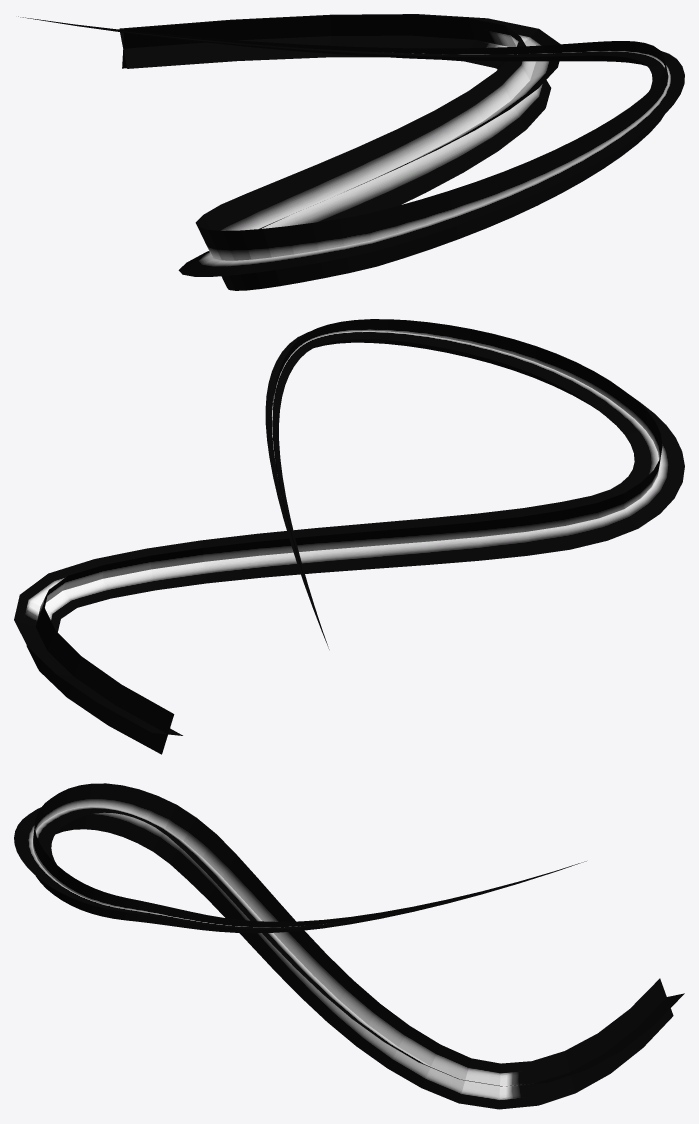
The model's file is TypeZero8.fbx.
The picture shows the model from 3 angles, top to bottom: view 1: azimuth 30°, elevation 25°; view 2: azimuth 150°, elevation 25°; view 3: azimuth 270°, elevation 25°; orthographic projection. The views are drawn at different scales.
Parts seen in each view (by area): view 1: SM_WEP_Eff_D61NJ1_A_08.mo; view 2: SM_WEP_Eff_D61NJ1_A_08.mo; view 3: SM_WEP_Eff_D61NJ1_A_08.mo.
Boxes of the visible parts, x1=… form: SM_WEP_Eff_D61NJ1_A_08.mo: x1=18, y1=14, x2=684, y2=290; SM_WEP_Eff_D61NJ1_A_08.mo: x1=14, y1=319, x2=684, y2=754; SM_WEP_Eff_D61NJ1_A_08.mo: x1=14, y1=783, x2=684, y2=1109.
Size of the model in its own units: 915 by 356 by 1208.
